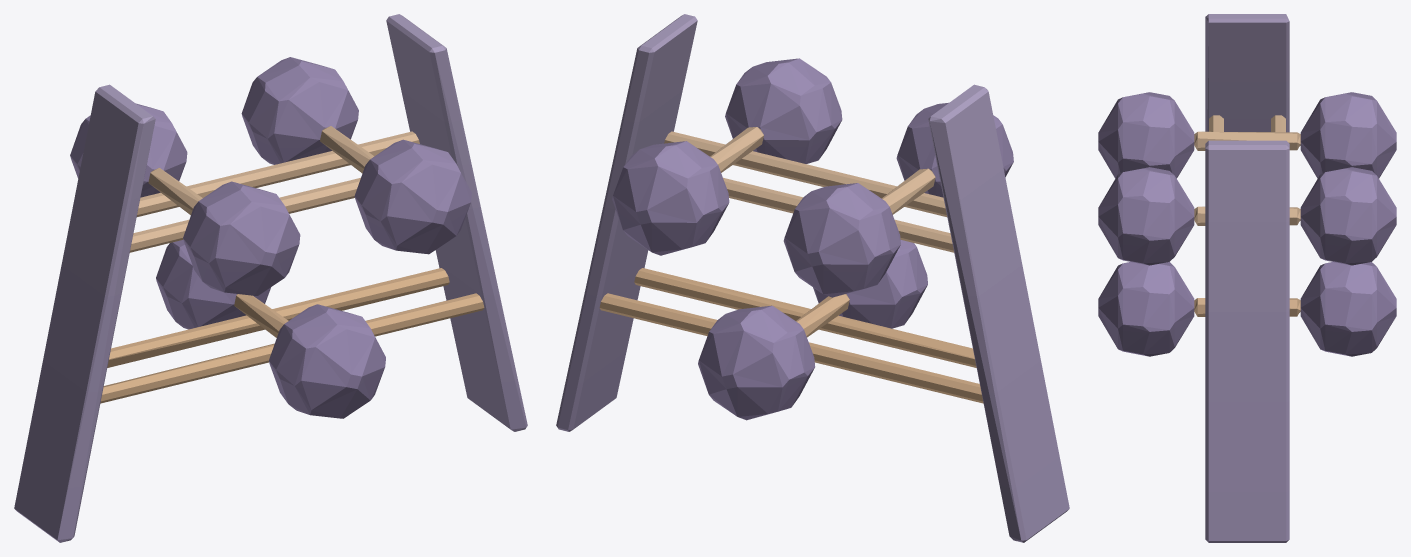
File: gym-dumbbells.glb
3 renders of one model, left to right at view 1: azimuth 30°, elevation 25°; view 2: azimuth 150°, elevation 25°; view 3: azimuth 270°, elevation 25°, orthographic. The views are drawn at different scales.
Visible parts, largest first — view 1: dumbbell_rack; view 2: dumbbell_rack; view 3: dumbbell_rack.
Part boxes in pixels (<box>): dumbbell_rack: <box>14,14,527,542</box>; dumbbell_rack: <box>556,14,1069,542</box>; dumbbell_rack: <box>1098,14,1396,542</box>.
Size of the model in its own units: 1.1 by 0.9 by 0.6725.
1 material, 1 textured.
